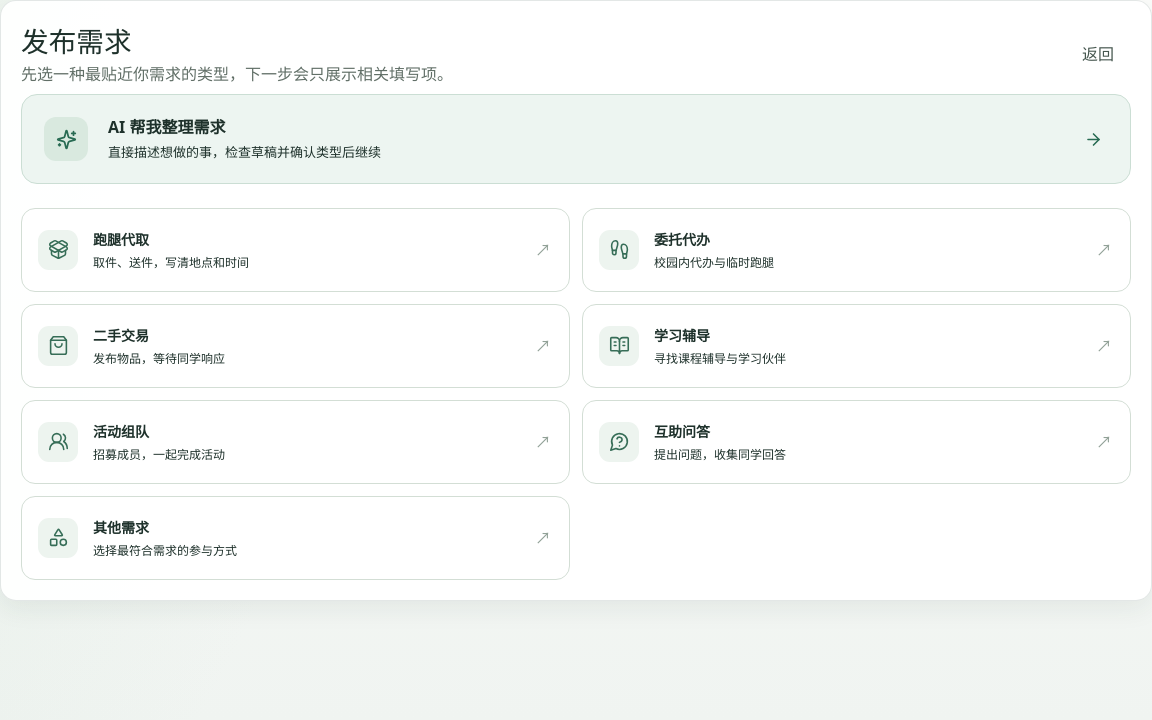
Test: DemandPublishView - 发布入口与 AI 草稿 › AI 失败时保留自然语言输入并允许重试，不进入表单
Click the button with test id "ai-publish-entry": (66, 139) [21, 94, 1131, 184]
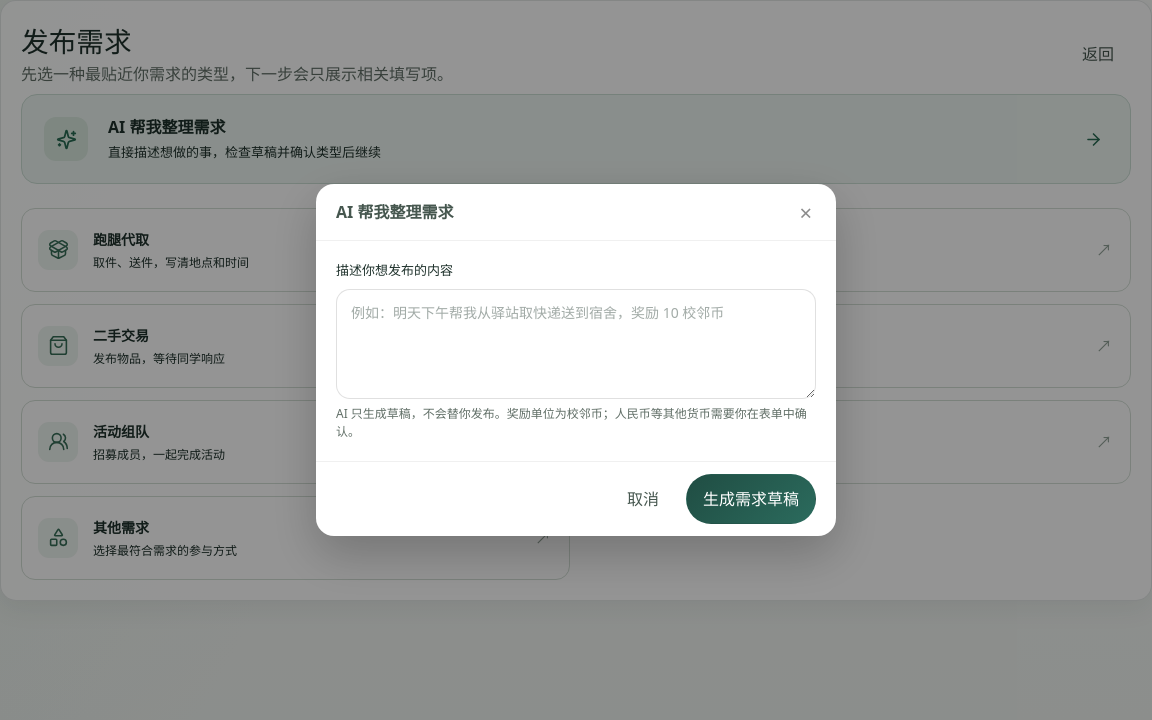
In the text box with test id "ai-prompt-input": (576, 344) [336, 289, 816, 399], type "帮我找人辅导高数，奖励 20 校邻币"
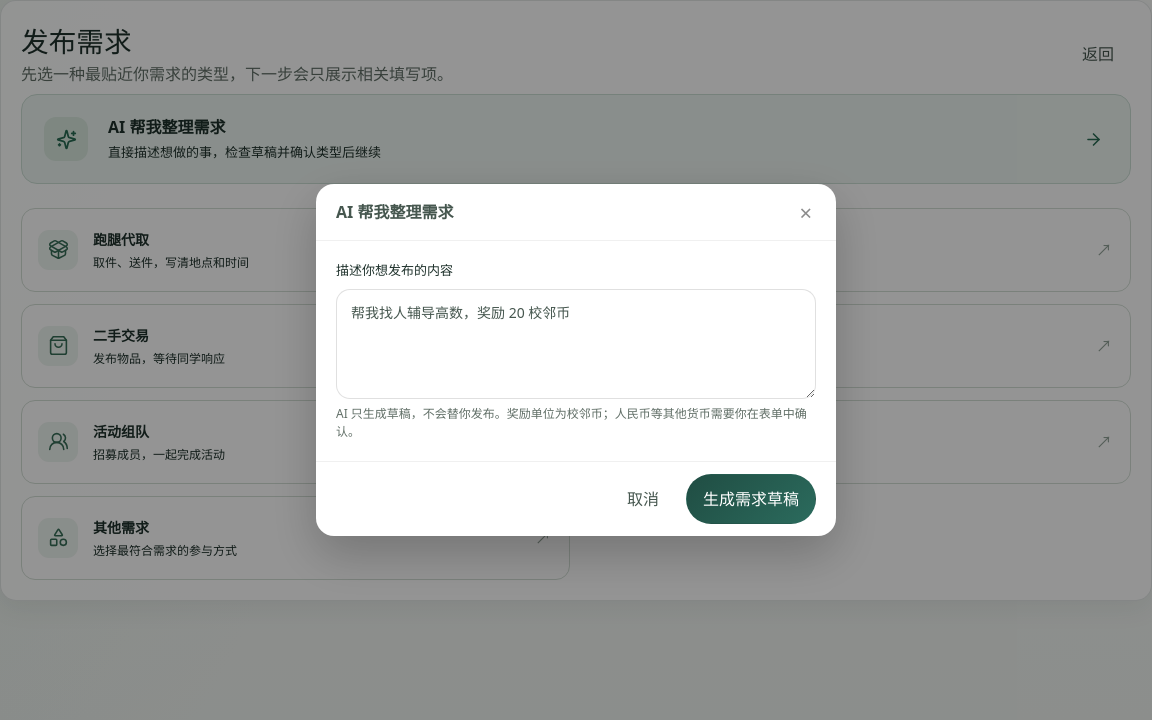
Click the button with test id "ai-generate-button": (751, 499) [686, 474, 816, 524]
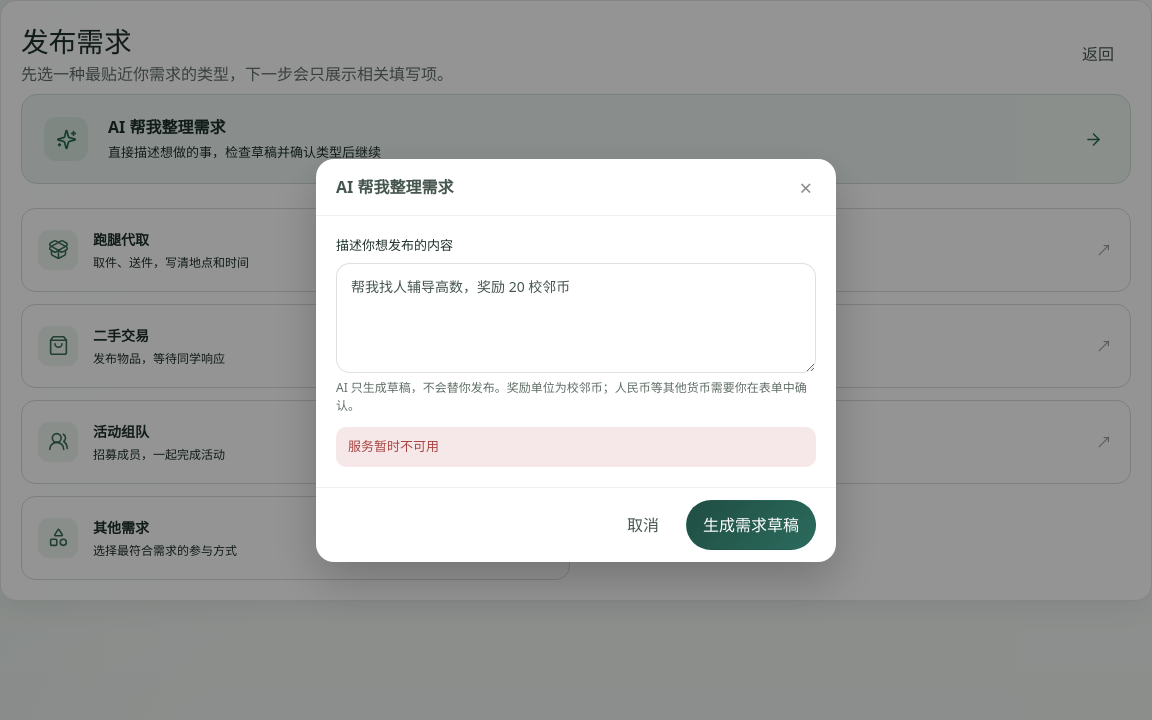
expect the text "服务暂时不可用" is shown: met, box [336, 427, 816, 466]
Click the button with test id "ai-generate-button": (751, 524) [686, 500, 816, 550]
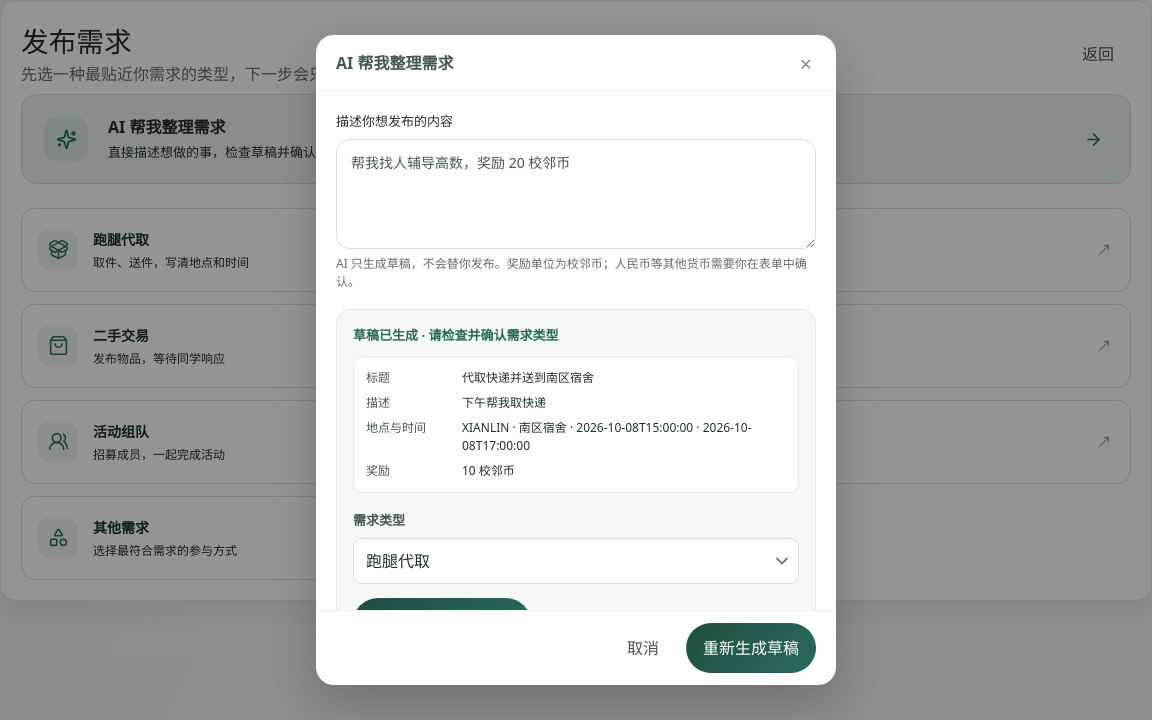
expect the element with test id "ai-candidate" is shown: met, box [336, 309, 816, 610]
